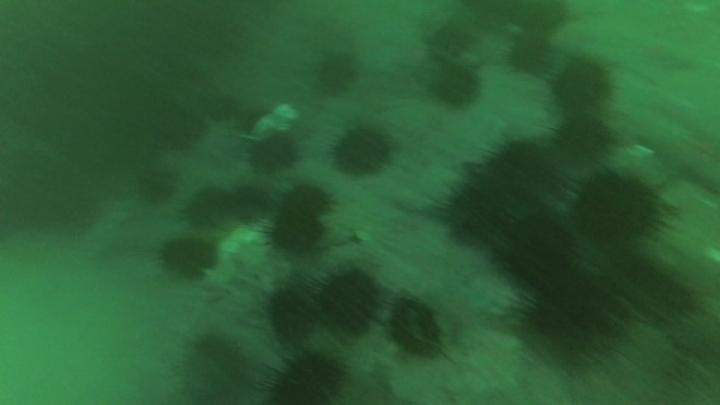echinus: (519, 279, 621, 365), (439, 176, 530, 247), (572, 174, 660, 244), (176, 333, 252, 404), (501, 215, 574, 288), (479, 139, 556, 203), (265, 350, 347, 404), (317, 270, 381, 332), (386, 298, 445, 359), (549, 56, 613, 112), (330, 124, 394, 178), (267, 203, 328, 258), (265, 286, 320, 343), (553, 113, 613, 162), (159, 235, 218, 280), (431, 62, 481, 110), (182, 186, 234, 230), (246, 132, 300, 174), (313, 51, 360, 96), (505, 33, 552, 76), (223, 182, 270, 223), (425, 22, 475, 60), (281, 183, 335, 218), (514, 1, 571, 34), (135, 165, 178, 207)
starfish: (647, 121, 720, 194), (421, 279, 498, 347)
